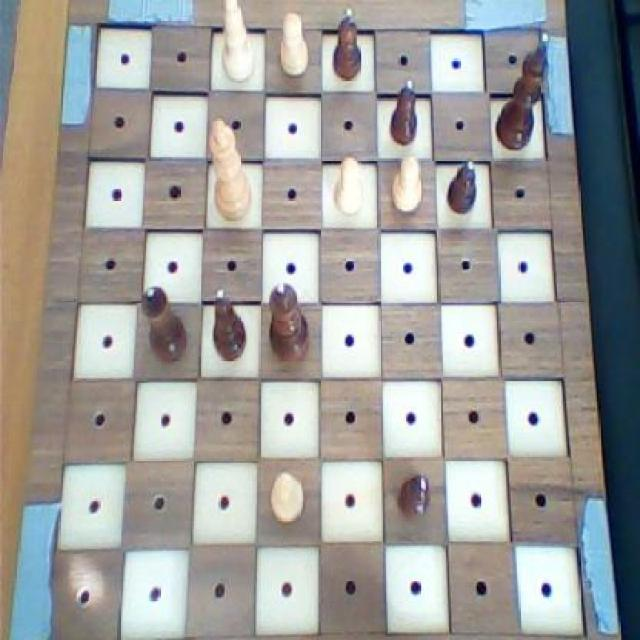black-knight: (328, 6, 362, 86), (386, 78, 421, 151), (392, 466, 435, 525), (443, 158, 478, 218)
black-pawn: (265, 277, 313, 369)
black-queen: (137, 283, 191, 368)
black-rook: (218, 0, 257, 85)
white-bishop: (208, 112, 255, 228)
white-knight: (331, 152, 367, 221), (266, 466, 306, 526), (277, 8, 309, 80), (391, 156, 426, 217)
